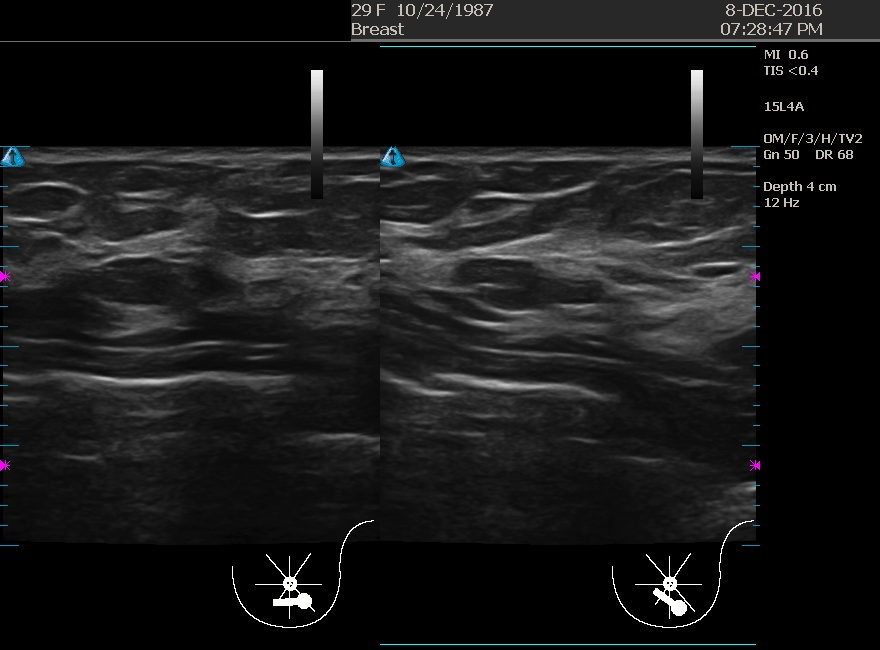BIRADS_3: (50, 190, 250, 390), (437, 189, 637, 389)
